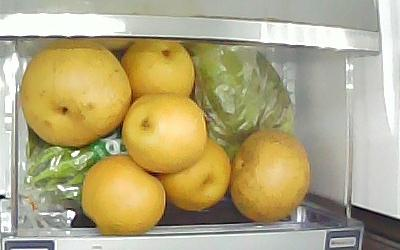pear: (21, 41, 131, 148), (231, 129, 310, 222), (122, 93, 207, 174), (82, 155, 166, 236), (160, 138, 230, 211), (123, 42, 194, 95)
